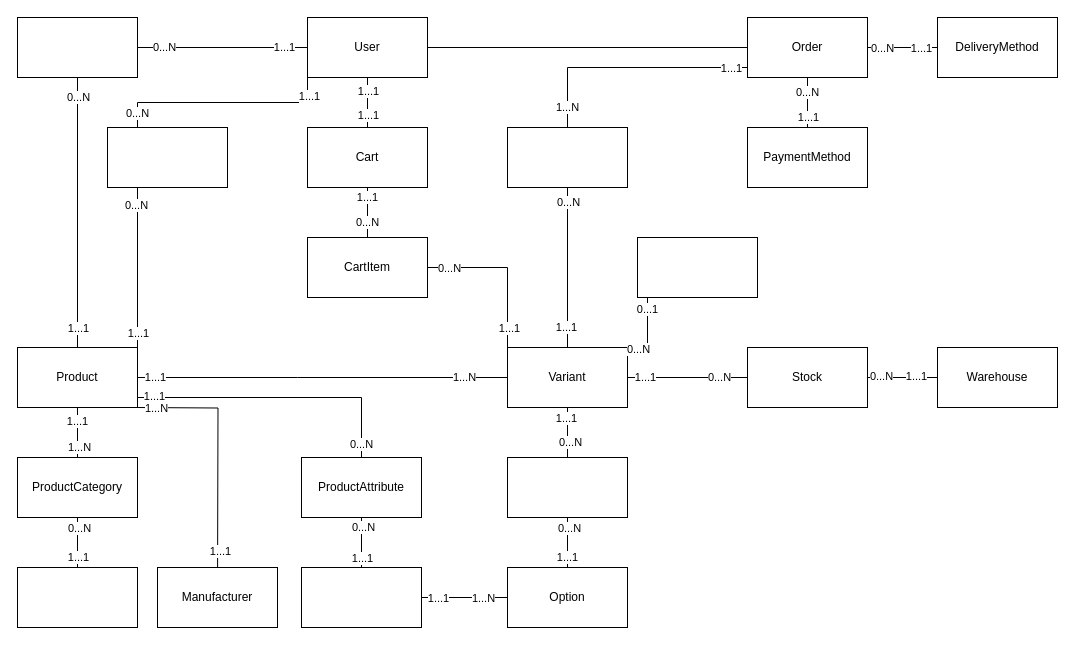
Image size: 1075x645. Some labels were removed from this diagram. Each missing label, with the centre of its shape:
Attribute: the point at 361,597
Category: the point at 77,597
FavoriteProduct: the point at 167,157
OrderItem: the point at 567,157
Promotion: the point at 697,267
Review: the point at 77,47
VariantOption: the point at 567,487
